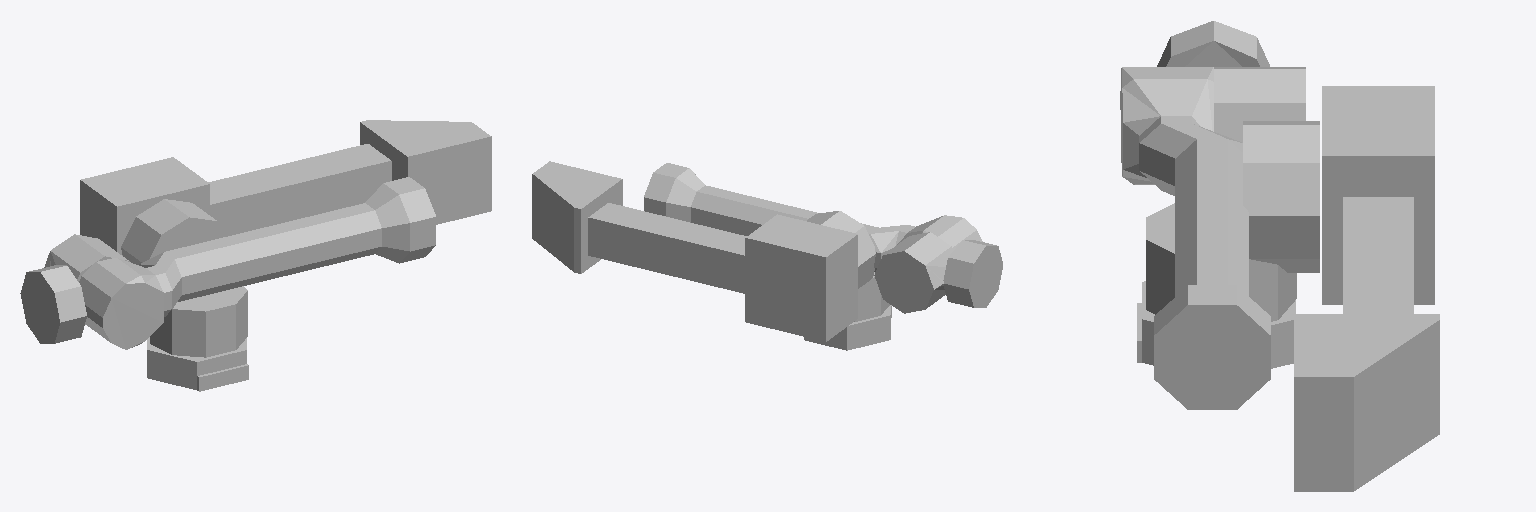
URDF robot description (ovis2):
<!-- Generated by Phobos (blender addon) -->

<robot name="ovis2" version="1.0">
  <joint name="ovis2_joint_1" type="continuous">
    <limit lower="0.00000" upper="0.00000" effort="30.50000" velocity="0.00000"/>
    <origin rpy="0.00000 0.00000 0.00000" xyz="0.00000 0.00000 0.03000"/>
    <parent link="ovis2_base_link"/>
    <child link="ovis2_link_1"/>
    <axis xyz="0.00000 0.00000 1.00000"/>
  </joint>
  <joint name="ovis2_joint_2" type="revolute">
    <limit lower="-3.40339" upper="0.26180" effort="30.50000" velocity="0.62832"/>
    <origin rpy="0.00000 0.00000 0.00000" xyz="0.00004 0.06250 0.07001"/>
    <parent link="ovis2_link_1"/>
    <child link="ovis2_link_2"/>
    <axis xyz="0.00000 1.00000 0.00000"/>
  </joint>
  <joint name="ovis2_joint_3" type="revolute">
    <limit lower="-5.23599" upper="0.00000" effort="30.50000" velocity="0.62832"/>
    <origin rpy="0.00000 0.00000 0.00000" xyz="0.30039 -0.01763 0.00072"/>
    <parent link="ovis2_link_2"/>
    <child link="ovis2_link_3"/>
    <axis xyz="0.00000 -1.00000 0.00000"/>
  </joint>
  <joint name="ovis2_joint_4" type="continuous">
    <limit lower="0.00000" upper="0.00000" effort="20.00000" velocity="0.83776"/>
    <origin rpy="0.00000 0.00000 0.00000" xyz="-0.06672 -0.04897 -0.00044"/>
    <parent link="ovis2_link_3"/>
    <child link="ovis2_link_4"/>
    <axis xyz="-1.00000 0.00000 0.00000"/>
  </joint>
  <joint name="ovis2_joint_5" type="revolute">
    <limit lower="-1.65806" upper="1.65806" effort="20.00000" velocity="0.83776"/>
    <origin rpy="0.00000 0.00000 0.00000" xyz="-0.33480 0.00015 0.00051"/>
    <parent link="ovis2_link_4"/>
    <child link="ovis2_link_5"/>
    <axis xyz="0.00000 1.00000 0.00000"/>
  </joint>
  <joint name="ovis2_joint_6" type="continuous">
    <limit lower="0.00000" upper="0.00000" effort="20.00000" velocity="0.83776"/>
    <origin rpy="0.00000 0.00000 0.00000" xyz="-0.07000 0.00003 0.00001"/>
    <parent link="ovis2_link_5"/>
    <child link="ovis2_link_6"/>
    <axis xyz="-1.00000 0.00000 0.00000"/>
  </joint>
  
 <!-- Base link -->
  <link name="ovis2_base_link">
    <collision name="ovis2_base_col">
      <origin rpy="0 0 0" xyz="0 0 0"/>
      <geometry>
        <mesh filename="package://ovis_description/urdf/ovis2/meshes/collision/ovis_base.stl" scale="1 1 1"/>
      </geometry>
    </collision>
    <inertial>
      <inertia ixx="0.00001" ixy="0" ixz="0" iyy="0.00001" iyz="0" izz="0.00001"/>
      <origin rpy="0 0 0" xyz="0 0 0"/>
      <mass value="0.00001"/>
    </inertial>
    <visual name="ovis2_base_vis">
      <origin rpy="0 0 0" xyz="0 0 0"/>
      <material name="Opaque(128,128,128)"/>
      <geometry>
        <mesh filename="package://ovis_description/urdf/ovis2/meshes/collision/ovis_base.stl" scale="1 1 1"/>
      </geometry>
    </visual>
  </link>
  
  <!-- Link 1 -->
  <link name="ovis2_link_1">
    <collision name="ovis2_j12_col">
      <origin rpy="0 0 0" xyz="0 0 0"/>
      <geometry>
        <mesh filename="package://ovis_description/urdf/ovis2/meshes/collision/ovis_j12.stl" scale="1 1 1"/>
      </geometry>
    </collision>
    <inertial>
      <inertia ixx="0.00001" ixy="0" ixz="0" iyy="0.00001" iyz="0" izz="0.00001"/>
      <origin rpy="0 0 0" xyz="0 0 0"/>
      <mass value="0.00001"/>
    </inertial>
    <visual name="ovis2_j12_vis">
      <origin rpy="0 0 0" xyz="0 0 0"/>
      <material name="Opaque(128,128,128)"/>
      <geometry>
        <mesh filename="package://ovis_description/urdf/ovis2/meshes/collision/ovis_j12.stl" scale="1 1 1"/>
      </geometry>
    </visual>
  </link>
  
  <!-- Link 2 -->
  <link name="ovis2_link_2">
    <collision name="ovis2_j23_col">
      <origin rpy="0 0 0" xyz="0 0 0"/>
      <geometry>
        <mesh filename="package://ovis_description/urdf/ovis2/meshes/collision/ovis_j23.stl" scale="1 1 1"/>
      </geometry>
    </collision>
    <inertial>
      <inertia ixx="0.00001" ixy="0" ixz="0" iyy="0.00001" iyz="0" izz="0.00001"/>
      <origin rpy="0 0 0" xyz="0 0 0"/>
      <mass value="0.00001"/>
    </inertial>
    <visual name="ovis2_j23_vis">
      <origin rpy="0 0 0" xyz="0 0 0"/>
      <material name="Aluminum_-_Satin"/>
      <geometry>
        <mesh filename="package://ovis_description/urdf/ovis2/meshes/collision/ovis_j23.stl" scale="1 1 1"/>
      </geometry>
    </visual>
  </link>
  
  <!-- Link 3 -->
  <link name="ovis2_link_3">
    <collision name="ovis2_j34_col">
      <origin rpy="0 0 0" xyz="0 0 0"/>
      <geometry>
        <mesh filename="package://ovis_description/urdf/ovis2/meshes/collision/ovis_j34.stl" scale="1 1 1"/>
      </geometry>
    </collision>
    <inertial>
      <inertia ixx="0.00001" ixy="0" ixz="0" iyy="0.00001" iyz="0" izz="0.00001"/>
      <origin rpy="0 0 0" xyz="0 0 0"/>
      <mass value="0.00001"/>
    </inertial>
    <visual name="ovis2_j34_vis">
      <origin rpy="0 0 0" xyz="0 0 0"/>
      <material name="Opaque(128,128,128)"/>
      <geometry>
        <mesh filename="package://ovis_description/urdf/ovis2/meshes/collision/ovis_j34.stl" scale="1 1 1"/>
      </geometry>
    </visual>
  </link>
  
  <!-- Link 4 -->
  <link name="ovis2_link_4">
    <collision name="ovis2_j45_col">
      <origin rpy="0 0 0" xyz="0 0 0"/>
      <geometry>
        <mesh filename="package://ovis_description/urdf/ovis2/meshes/collision/ovis_j45.stl" scale="1 1 1"/>
      </geometry>
    </collision>
    <inertial>
      <inertia ixx="0.00001" ixy="0" ixz="0" iyy="0.00001" iyz="0" izz="0.00001"/>
      <origin rpy="0 0 0" xyz="0 0 0"/>
      <mass value="0.00001"/>
    </inertial>
    <visual name="ovis2_j45_vis">
      <origin rpy="0 0 0" xyz="0 0 0"/>
      <material name="Opaque(128,128,128)"/>
      <geometry>
        <mesh filename="package://ovis_description/urdf/ovis2/meshes/collision/ovis_j45.stl" scale="1 1 1"/>
      </geometry>
    </visual>
  </link>
  
  <!-- Link 5 -->
  <link name="ovis2_link_5">
    <collision name="ovis2_j56_col">
      <origin rpy="0 0 0" xyz="0 0 0"/>
      <geometry>
        <mesh filename="package://ovis_description/urdf/ovis2/meshes/collision/ovis_j56.stl" scale="1 1 1"/>
      </geometry>
    </collision>
    <inertial>
      <inertia ixx="0.00001" ixy="0" ixz="0" iyy="0.00001" iyz="0" izz="0.00001"/>
      <origin rpy="0 0 0" xyz="0 0 0"/>
      <mass value="0.00001"/>
    </inertial>
    <visual name="ovis2_j56_vis">
      <origin rpy="0 0 0" xyz="0 0 0"/>
      <material name="Opaque(128,128,128)"/>
      <geometry>
        <mesh filename="package://ovis_description/urdf/ovis2/meshes/collision/ovis_j56.stl" scale="1 1 1"/>
      </geometry>
    </visual>
  </link>
  
  <!-- Link 6 -->
  <link name="ovis2_link_6">
    <collision name="ovis2_end_effector_col">
      <origin rpy="0 0 0" xyz="0 0 0"/>
      <geometry>
        <mesh filename="package://ovis_description/urdf/ovis2/meshes/collision/ovis_end_effector.stl" scale="1 1 1"/>
      </geometry>
    </collision>
    <inertial>
      <inertia ixx="0.00001" ixy="0" ixz="0" iyy="0.00001" iyz="0" izz="0.00001"/>
      <origin rpy="0 0 0" xyz="0 0 0"/>
      <mass value="0.00001"/>
    </inertial>
    <visual name="ovis2_end_effector_vis">
      <origin rpy="0 0 0" xyz="0 0 0"/>
      <material name="Opaque(128,128,128)"/>
      <geometry>
        <mesh filename="package://ovis_description/urdf/ovis2/meshes/collision/ovis_end_effector.stl" scale="1 1 1"/>
      </geometry>
    </visual>
  </link>
  
  <material name="Aluminum_-_Satin">
    <color rgba="0.8 0.8 0.8 1.0"/>
  </material>
  <material name="Opaque(128,128,128)">
    <color rgba="0.8 0.8 0.8 1.0"/>
  </material>
</robot>

--- Render facts (derived) ---
The picture shows the robot from 3 angles, left to right: view 1: azimuth 30°, elevation 25°; view 2: azimuth 150°, elevation 25°; view 3: azimuth 270°, elevation 25°; orthographic projection.
Robot: ovis2 — 7 links, 6 joints (3 revolute, 3 continuous); root link ovis2_base_link; default pose: every joint at zero.
Visible links, largest first — view 1: ovis2_link_2, ovis2_link_4, ovis2_link_1, ovis2_link_5, ovis2_base_link; view 2: ovis2_link_2, ovis2_link_4, ovis2_link_5, ovis2_link_1, ovis2_base_link; view 3: ovis2_link_2, ovis2_link_4, ovis2_link_1, ovis2_link_5, ovis2_base_link.
Boxes of the visible links, box(x1,y1,x2,y2) form: ovis2_link_2: box(80, 120, 491, 255); ovis2_link_4: box(79, 177, 435, 349); ovis2_link_1: box(121, 199, 247, 357); ovis2_link_5: box(20, 234, 129, 343); ovis2_base_link: box(147, 337, 248, 391); ovis2_link_2: box(532, 161, 857, 341); ovis2_link_4: box(644, 163, 982, 271); ovis2_link_5: box(874, 232, 1002, 313); ovis2_link_1: box(807, 211, 889, 321); ovis2_base_link: box(804, 305, 891, 350); ovis2_link_2: box(1294, 86, 1439, 491); ovis2_link_4: box(1120, 67, 1270, 409); ovis2_link_1: box(1146, 121, 1319, 321); ovis2_link_5: box(1157, 21, 1305, 142); ovis2_base_link: box(1137, 281, 1295, 368).
Size in the robot's own frame: 0.5119 by 0.1937 by 0.1497 metres.
5 mesh visuals loaded from 7 distinct referenced files (5 binary STL); not drawn: 2 (reference not matched to a file when rendering).